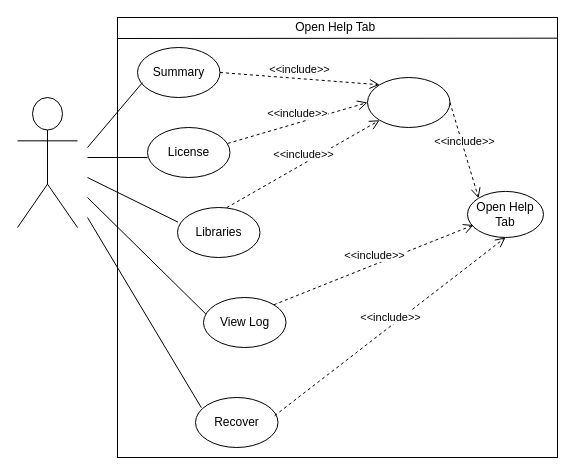
Image size: 576x475. Some labels were removed from this diagram. The shapes that lost their labels are listed below. From the top down, each one's centre as x and y in pixels, then its label:
At [408,102]: "Open About Tab".
At [47,162]: "User".
